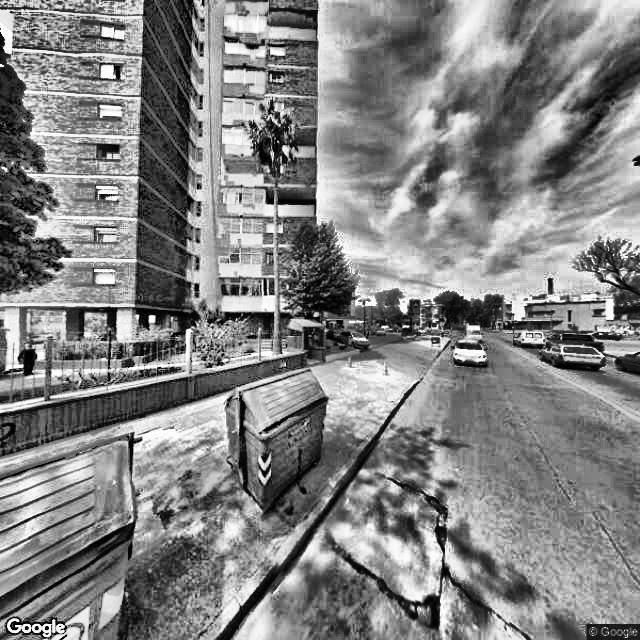Dustbin: (1, 424, 155, 637), (218, 362, 342, 520)
